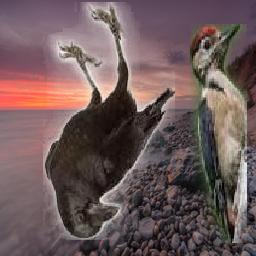Crow: (43, 2, 175, 240)
Woodpecker: (191, 25, 248, 244)
